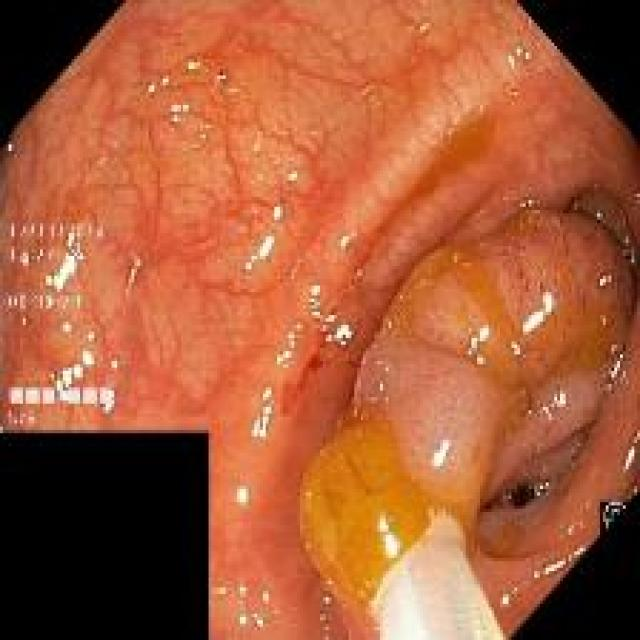Polyps: (382, 211, 635, 427), (352, 339, 498, 533), (300, 421, 430, 614)
